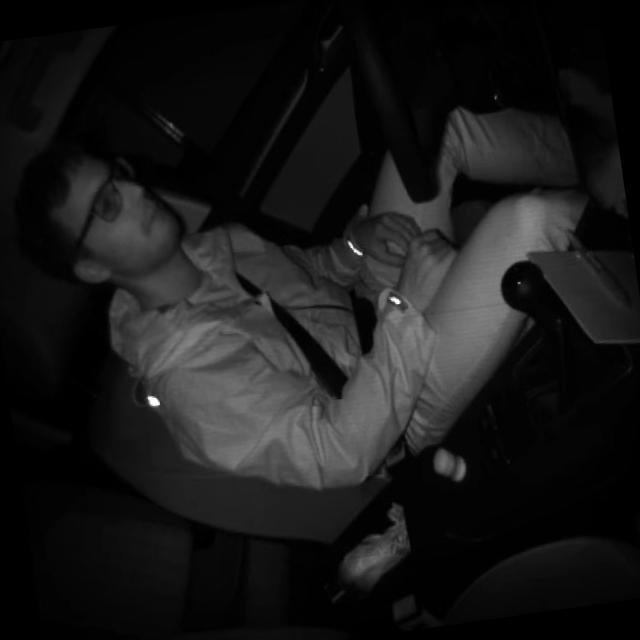pen: (563, 219, 635, 320)
